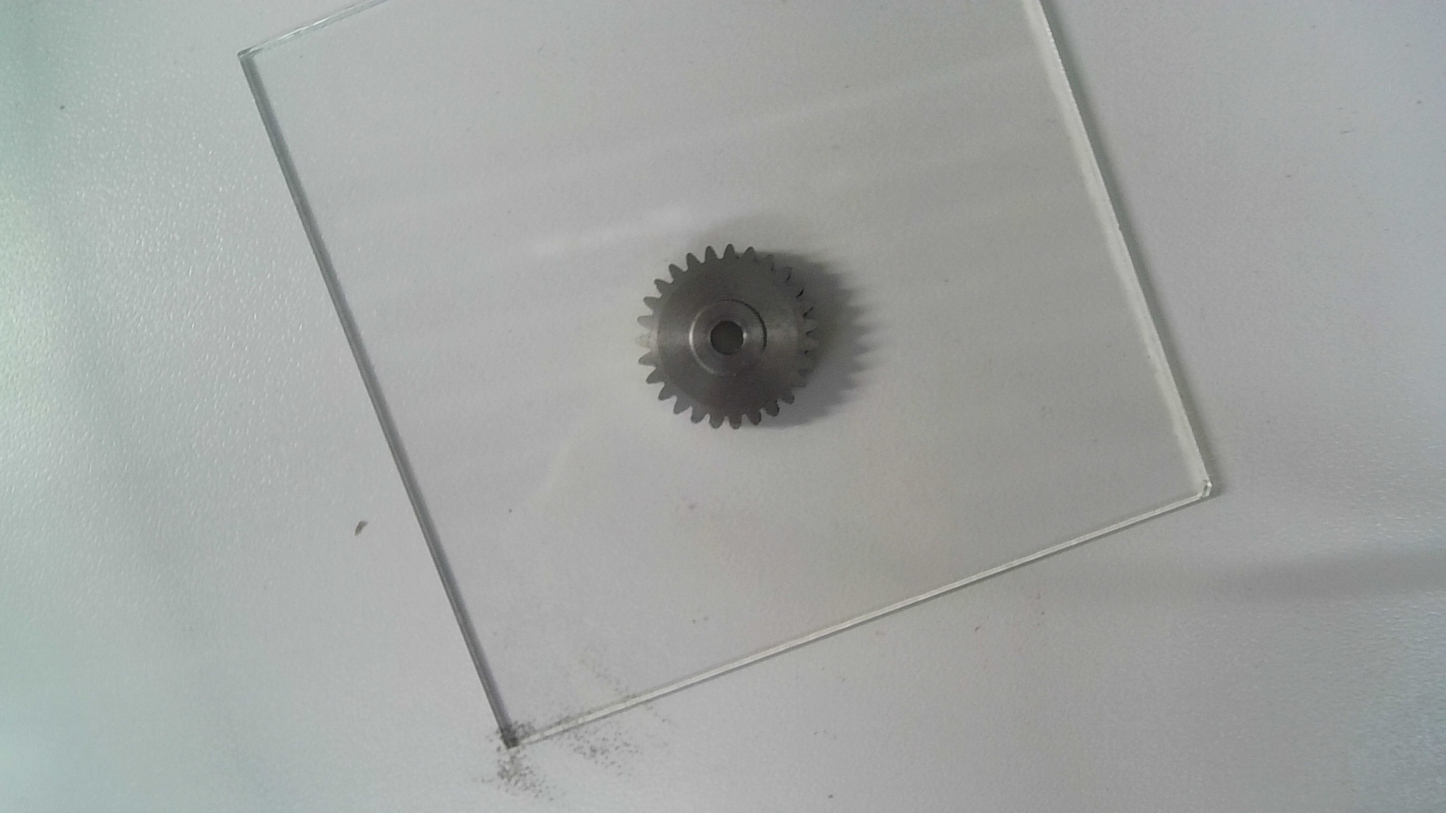gear: (632, 242, 822, 432)
